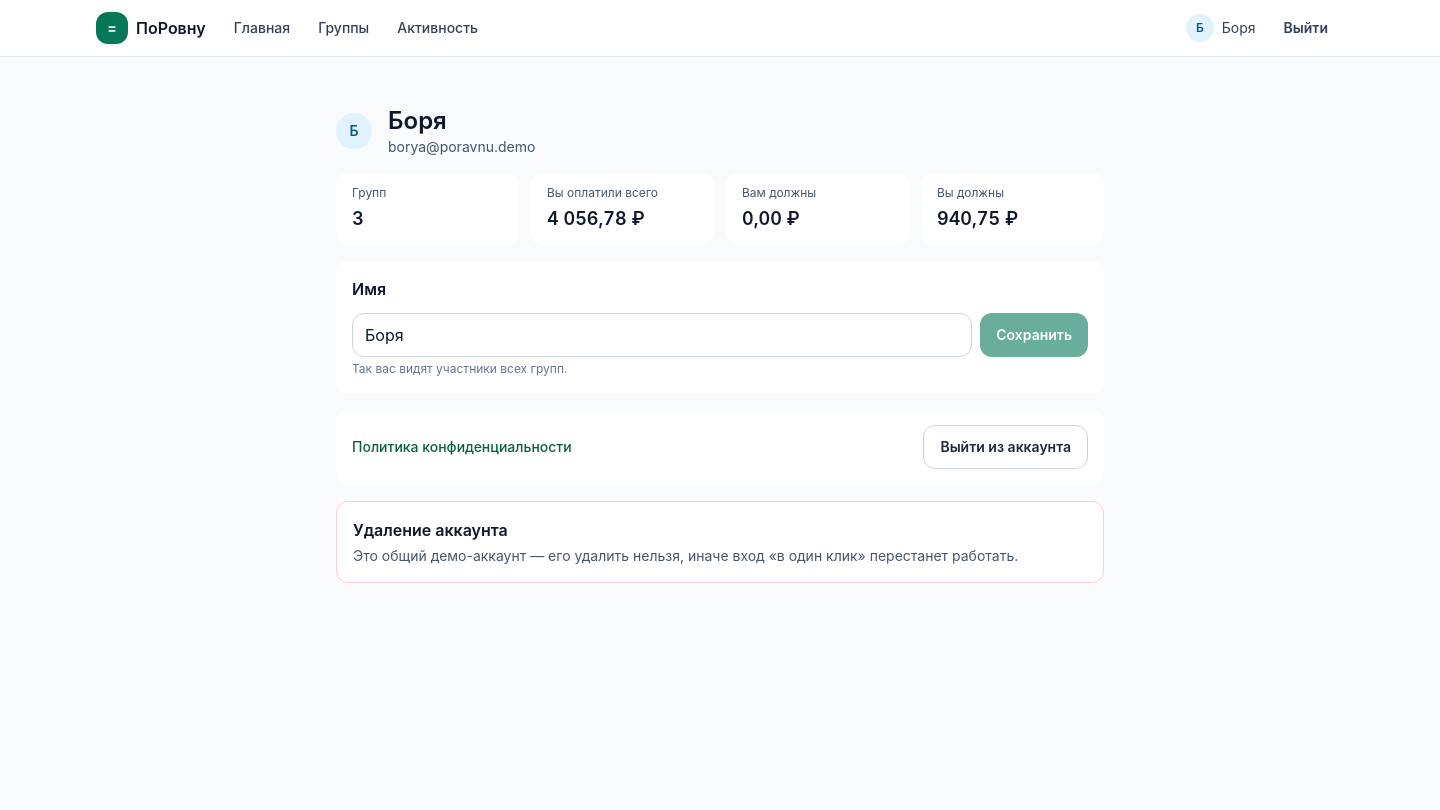
профиль (ДЗ6) › меняет имя — новое имя сразу в заголовке и в шапке
The width and height of the screenshot is (1440, 810).
Step 1. Replace the text in the field named "Как вас видят в группах" with "Борис" → (662, 335), box [352,313,972,357]
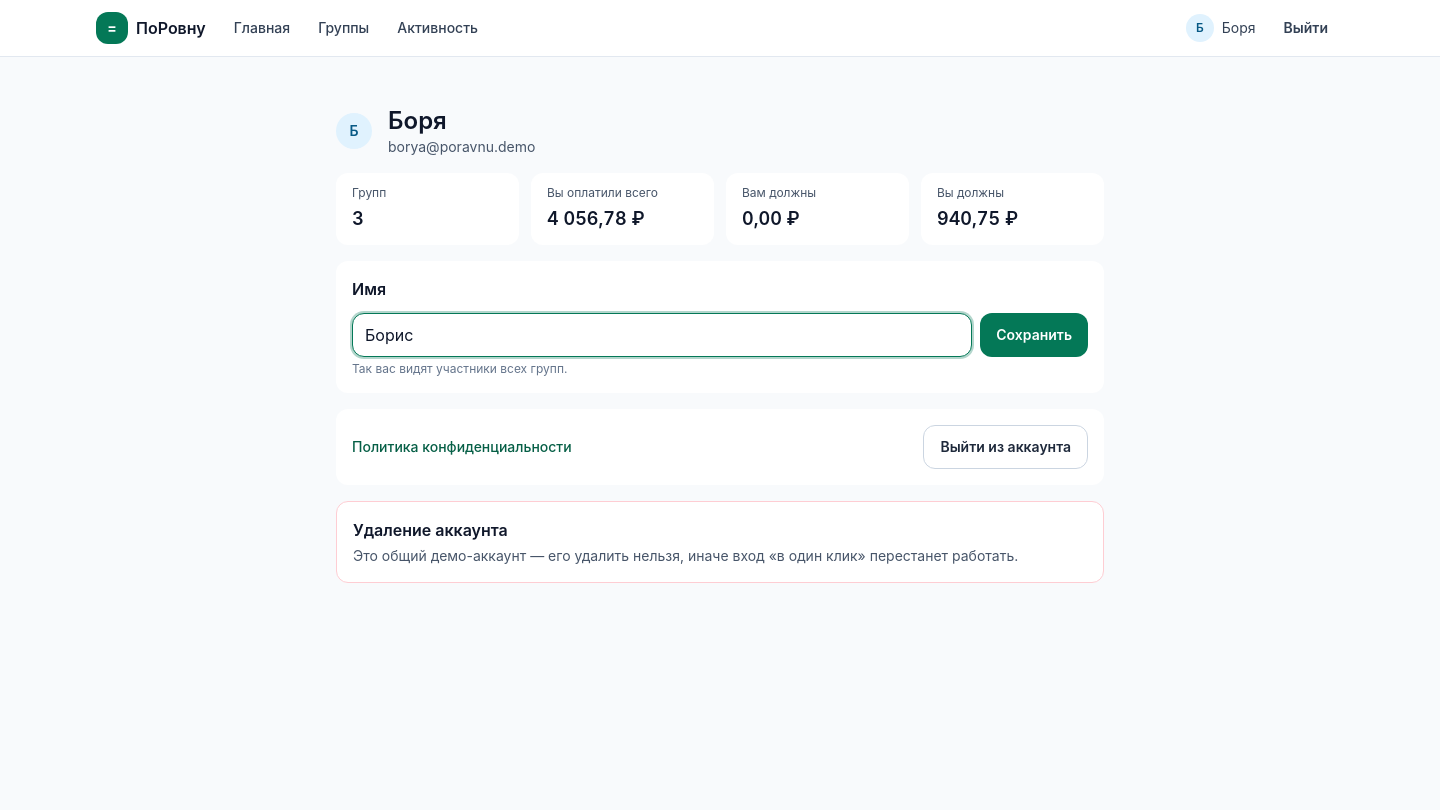
Step 2. Click the button "Сохранить" → (1034, 335), box [980,313,1088,357]
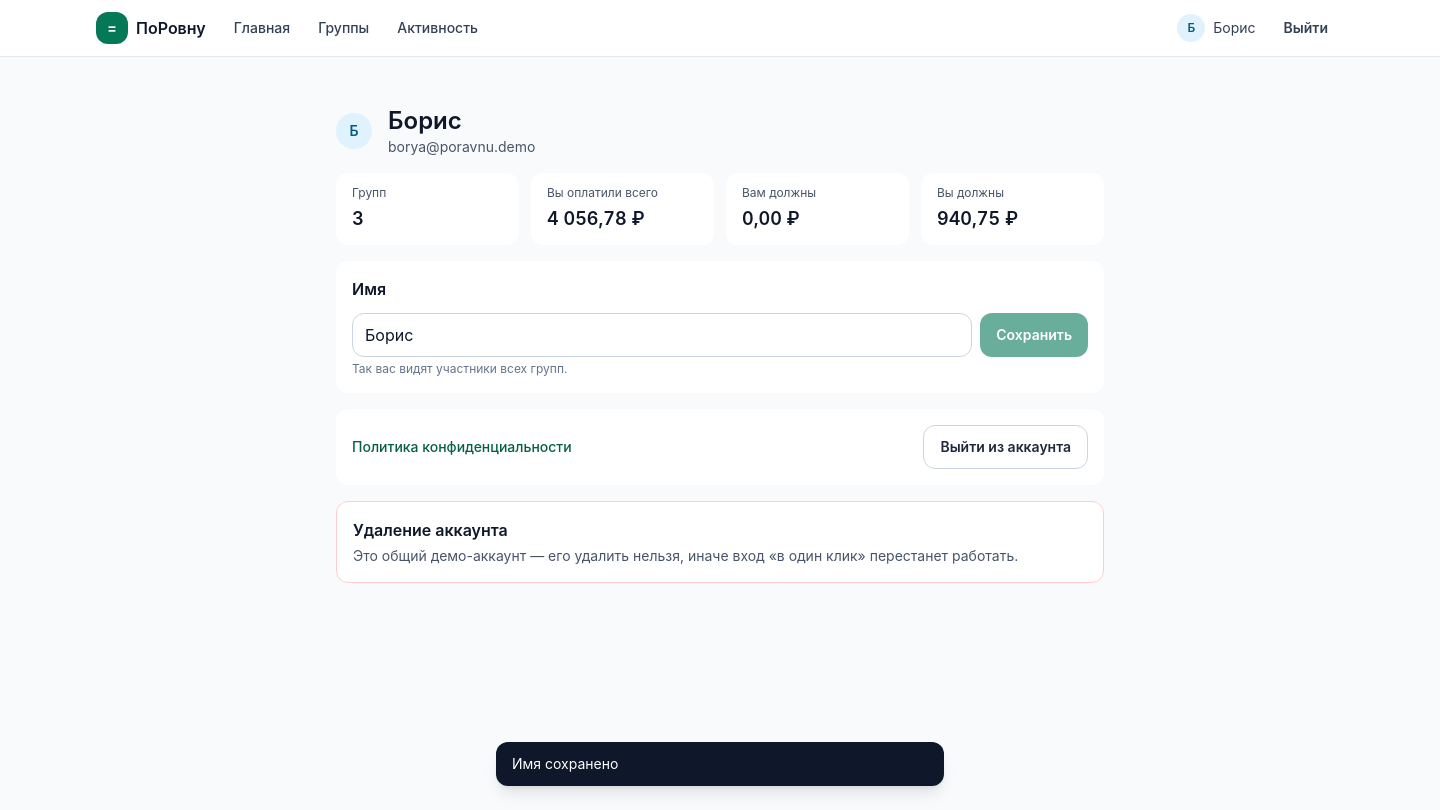
Now the heading "Борис" is shown, box [388,106,462,135]
Now the link with aria-label "Профиль: Борис" is shown, box [1177,14,1256,42]
